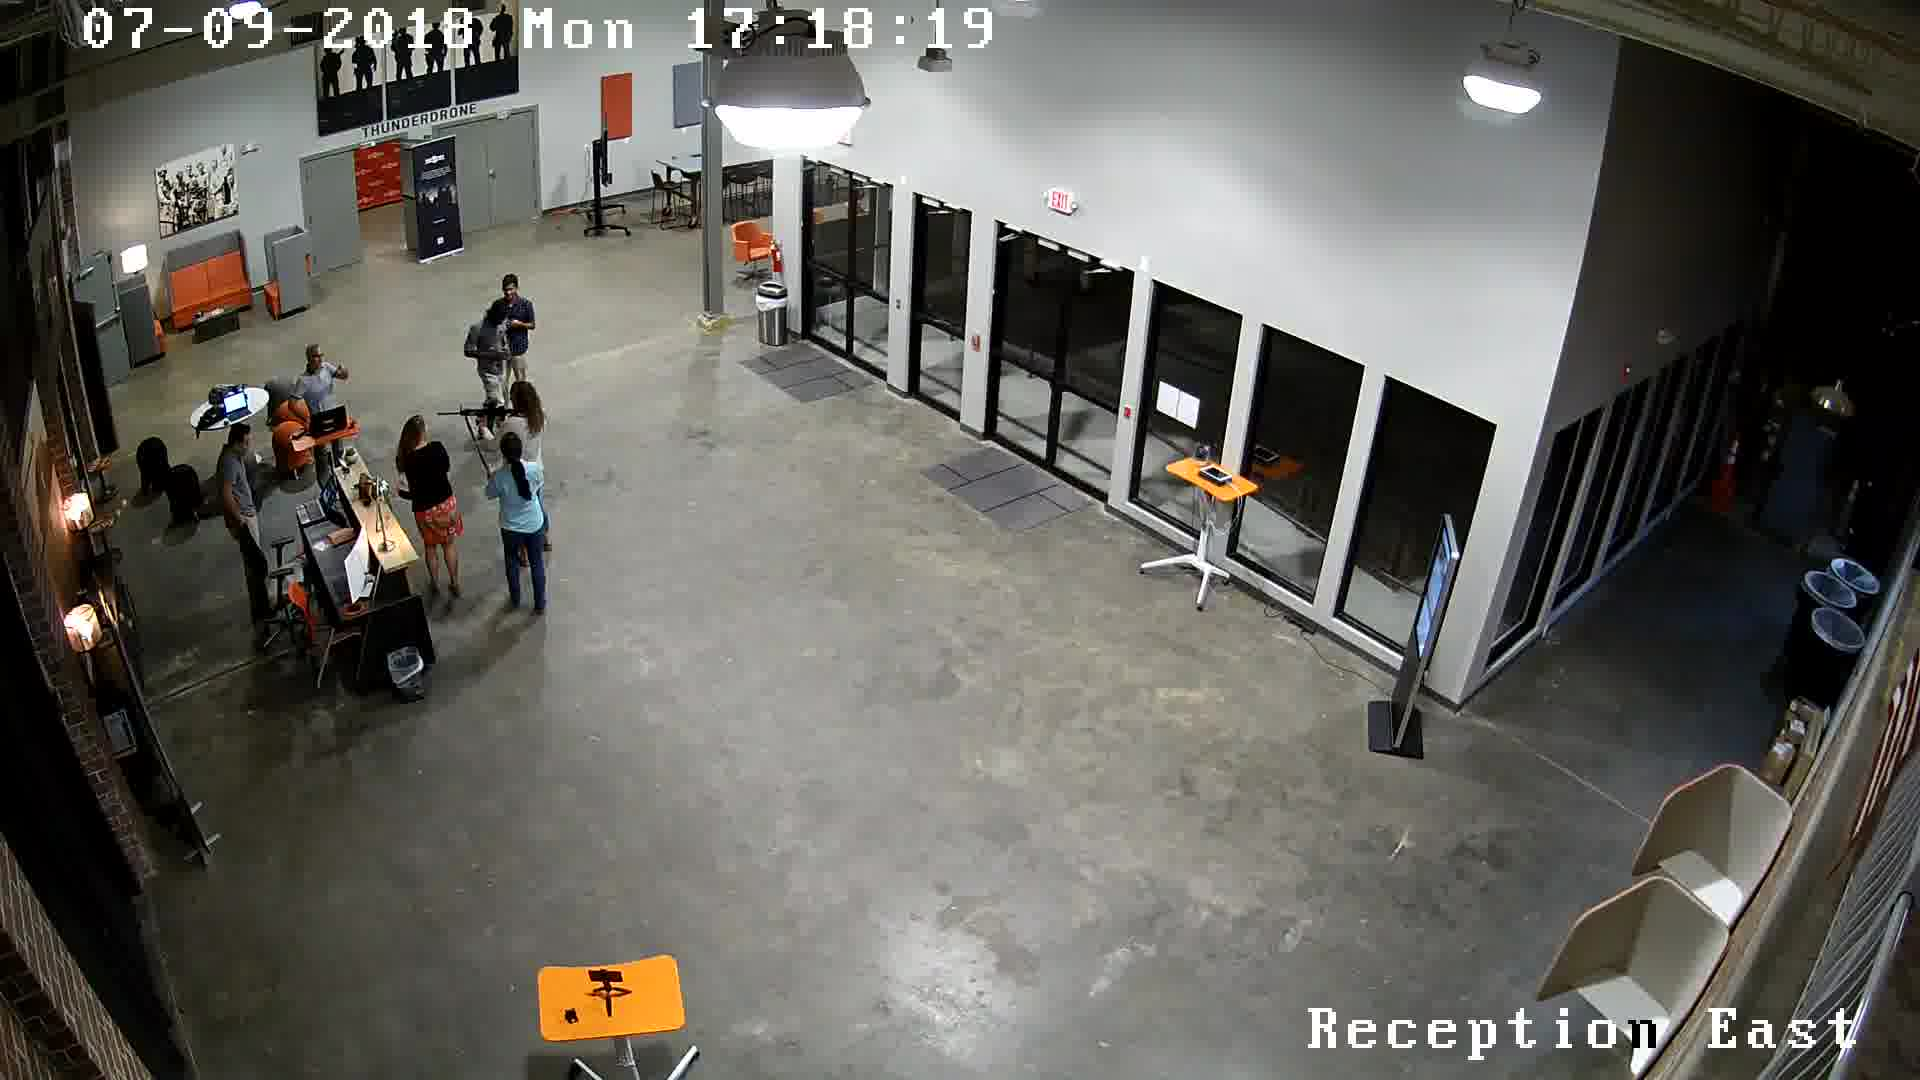pistol: (495, 342, 516, 361), (500, 314, 520, 334)
